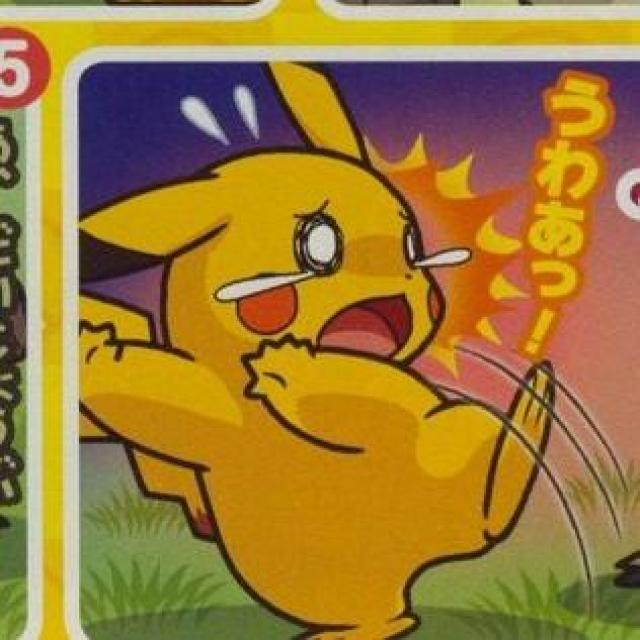pikachu: (82, 69, 554, 640)
